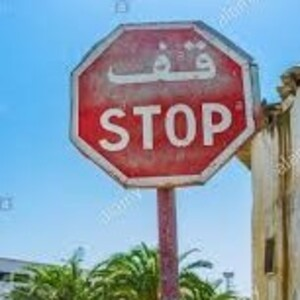stop: (68, 21, 256, 189)
